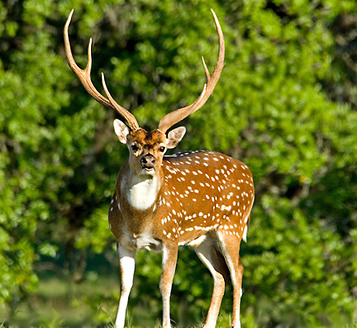Deer: (63, 7, 256, 328)
